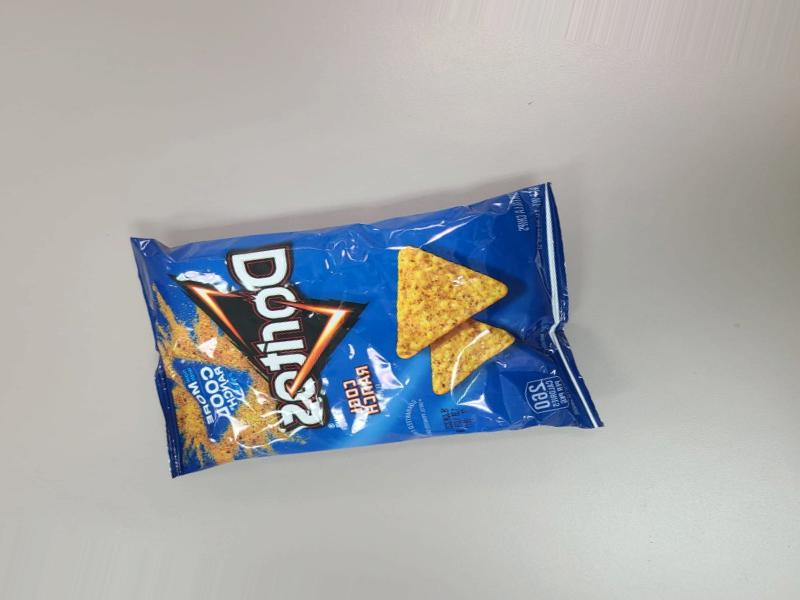doritos: (120, 194, 614, 478)
